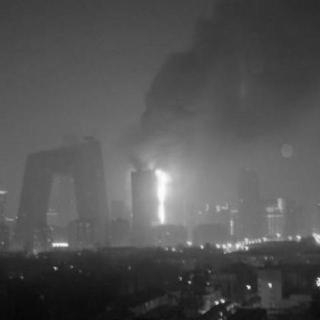Fire: (146, 160, 172, 228)
Smoke: (146, 7, 317, 157)
other: (174, 270, 287, 318), (41, 237, 75, 251)
